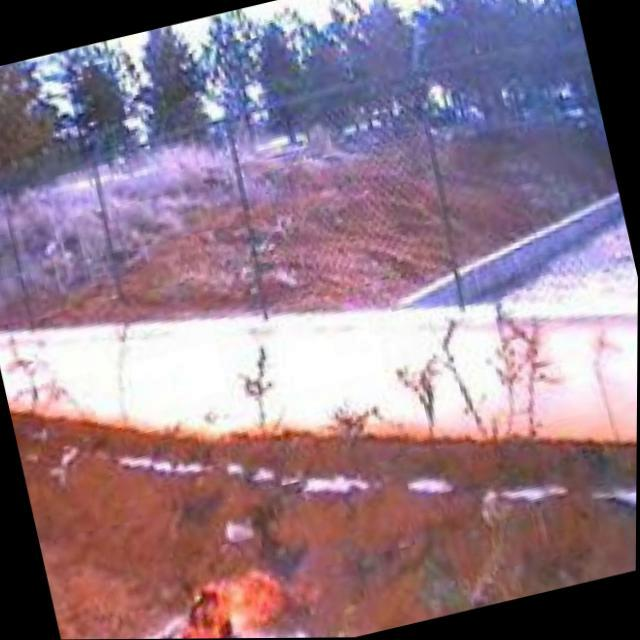fire: (141, 548, 331, 640)
